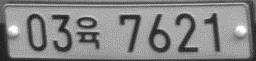0: (26, 13, 48, 52)
1: (198, 11, 224, 52)
2: (174, 12, 199, 53)
3: (49, 12, 72, 53)
6: (146, 12, 172, 53)
7: (117, 13, 143, 53)
육: (74, 15, 101, 51)
